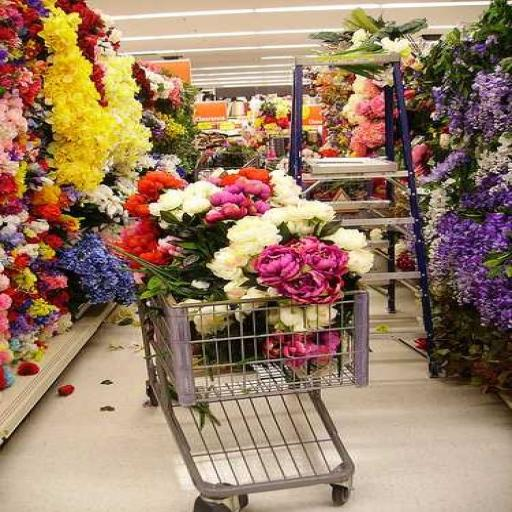shopping_cart: (129, 266, 371, 512)
